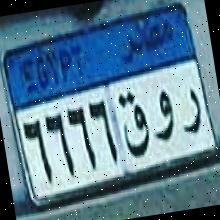6: (19, 114, 53, 192), (44, 110, 74, 180), (66, 101, 94, 169), (90, 98, 117, 166)
qaaf: (116, 89, 152, 159)
raa: (178, 81, 205, 138)
waw: (146, 90, 178, 143)
